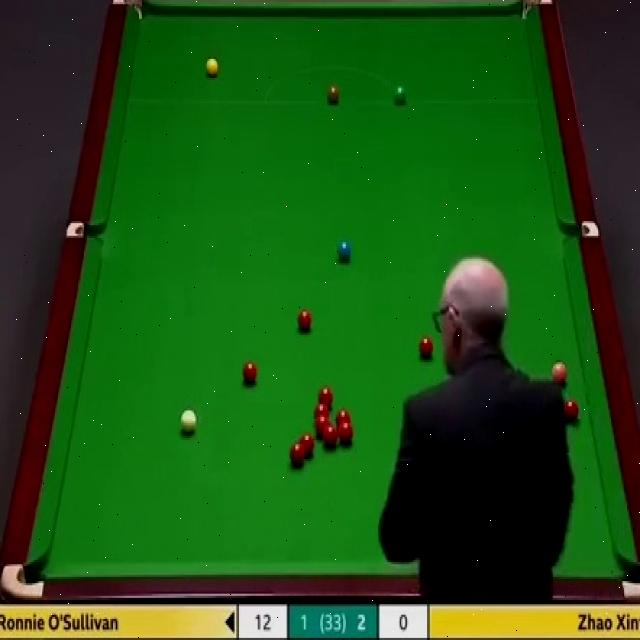blue-ball: (337, 239, 352, 261)
brown-ball: (326, 84, 340, 105)
green-ball: (394, 86, 407, 104)
pink-ball: (551, 360, 568, 387)
red-ball: (241, 360, 259, 388), (288, 442, 306, 468), (563, 399, 581, 423), (300, 435, 317, 460), (419, 334, 435, 360), (338, 422, 354, 447), (323, 424, 338, 448), (297, 310, 313, 332), (317, 387, 334, 404), (315, 417, 330, 436), (314, 402, 329, 420), (336, 411, 351, 425)
white-ball: (180, 410, 197, 436)
yellow-ball: (206, 58, 220, 80)
